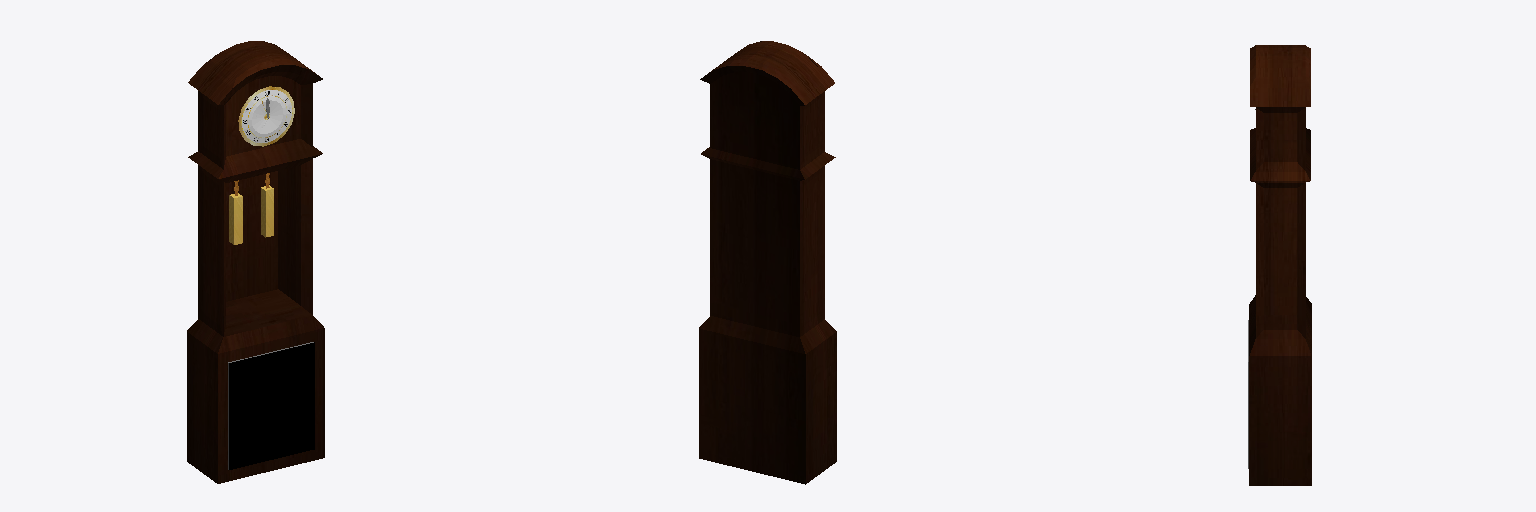
3 renders of one model, left to right at view 1: azimuth 30°, elevation 25°; view 2: azimuth 150°, elevation 25°; view 3: azimuth 270°, elevation 25°, orthographic.
Parts seen in each view (by area): view 1: polySurface3 hourhand_clocktexture1; view 2: polySurface3 hourhand_clocktexture1; view 3: polySurface3 hourhand_clocktexture1.
Boxes of the visible parts, <box> form: polySurface3 hourhand_clocktexture1: <box>187,41,324,483</box>; polySurface3 hourhand_clocktexture1: <box>699,41,836,484</box>; polySurface3 hourhand_clocktexture1: <box>1248,45,1311,485</box>.
Size of the model in its own units: 2.17 by 7.91 by 1.11.
5 materials, 3 textured.